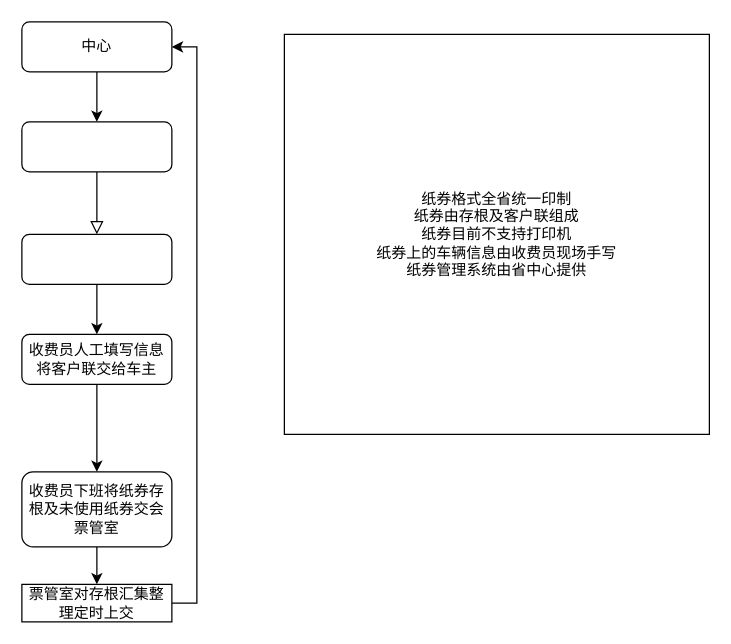
Image size: 731x644. Some labels were removed from this diagram. The shapes that lost their labels are listed below. From the top down, each one's box as (x1, y1, x2, y2) in pixels, then its label:
(21, 121, 172, 172): 收费站从中心领取纸券入库票管室
(21, 233, 172, 284): 收费员上班从票管室领取纸券
